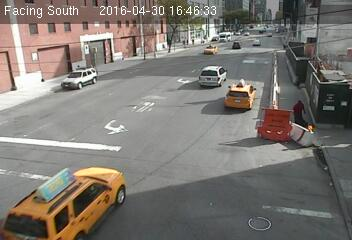neg: (27, 116, 97, 210), (158, 36, 181, 66), (290, 47, 303, 64), (32, 72, 44, 88), (150, 34, 161, 49), (93, 51, 103, 64), (123, 61, 129, 70), (127, 38, 133, 46)
